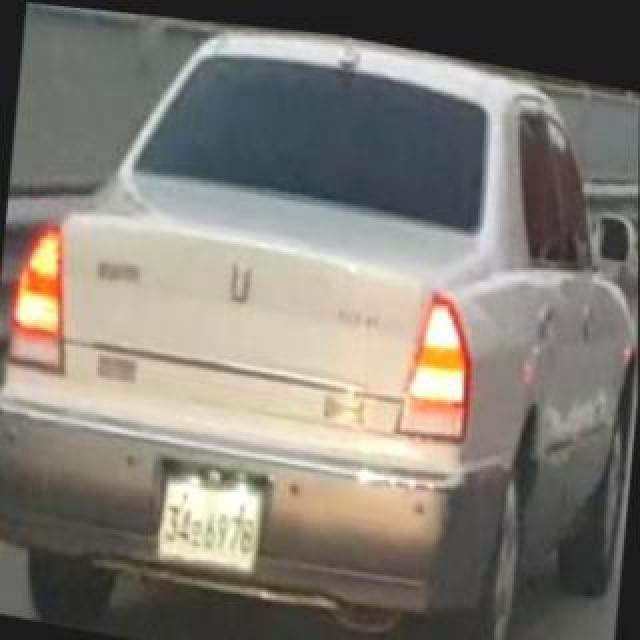car: (2, 26, 636, 640)
illegal_plate: (152, 458, 265, 582)
